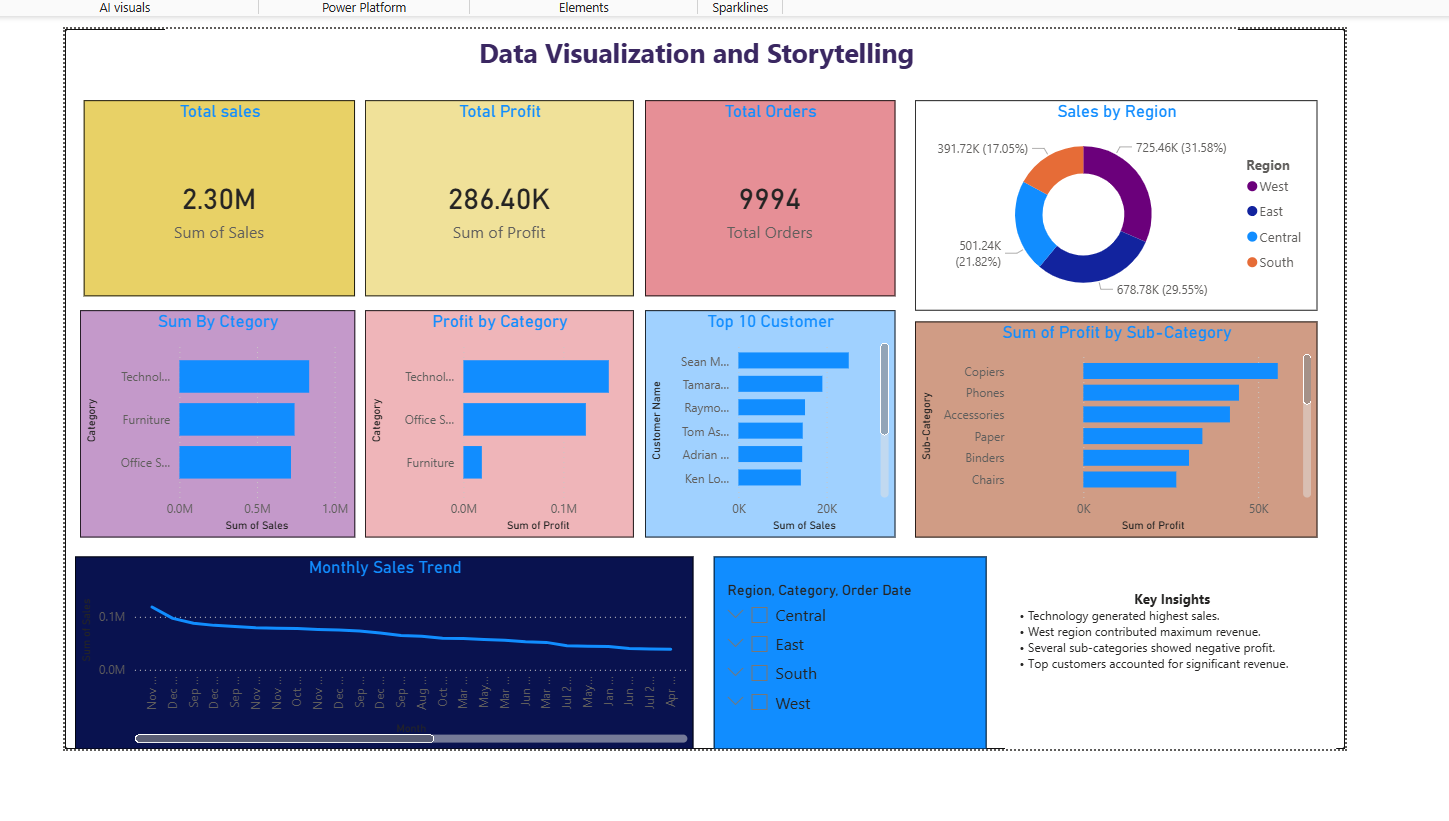

Layout of this report page (visuals, bound fields, positions):
{"tool":"powerbi","page":{"name":"Page 1","canvas":[1280,720],"ordinal":0},"visuals":[{"type":"card","title":"Total sales","fields":{"Values":["Sum(Sample - Superstore.Sales)"]},"box":[18.8,71.2,271.2,196.2],"z":0},{"type":"card","title":"Total Profit","fields":{"Values":["Sum(Sample - Superstore.Profit)"]},"box":[300,71.2,268.8,196.2],"z":1},{"type":"card","title":"Total Orders","fields":{"Values":["Sample - Superstore.Total Orders"]},"box":[580,71.2,250,196.2],"z":2},{"type":"clusteredBarChart","title":"Sum By Ctegory","fields":{"Category":["Sample - Superstore.Category"],"Y":["Sum(Sample - Superstore.Sales)"]},"box":[15,281.2,275,227.5],"z":3},{"type":"clusteredBarChart","title":"Profit by Category","fields":{"Category":["Sample - Superstore.Category"],"Y":["Sum(Sample - Superstore.Profit)"]},"box":[300,281.2,268.8,227.5],"z":4},{"type":"lineChart","title":" Monthly Sales Trend","fields":{"Category":["Sample - Superstore.Month"],"Y":["Sum(Sample - Superstore.Sales)"]},"box":[10,527.5,618.8,192.5],"z":5},{"type":"donutChart","title":"Sales by Region","fields":{"Category":["Sample - Superstore.Region"],"Y":["Sum(Sample - Superstore.Sales)"]},"box":[850,71.2,402.5,210],"z":6},{"type":"barChart","title":"Top 10  Customer ","fields":{"Category":["Sample - Superstore.Customer Name"],"Y":["Sum(Sample - Superstore.Sales)"]},"box":[580,281.2,250,227.5],"z":7},{"type":"barChart","fields":{"Category":["Sample - Superstore.Sub-Category"],"Y":["Sum(Sample - Superstore.Profit)"]},"box":[850,292.5,402.5,216.2],"z":8},{"type":"slicer","title":"Slicer","fields":{"Values":["Sample - Superstore.Region","Sample - Superstore.Category","Sample - Superstore.Order Date"]},"box":[648.8,527.5,272.5,192.5],"z":9},{"type":"textbox","box":[940,556.2,331.2,163.8],"z":10},{"type":"textbox","box":[100,0,1072.5,62.5],"z":11}]}

Visuals, with their boxes on the page's 1280x720 design canvas (x1, y1, x2, y2). These are canvas units, not pixel positions in the 1449x821 screenshot, which may show the page scaled, cropped or inside an application window:
"Total sales" card: box=[19, 71, 290, 267]
"Total Profit" card: box=[300, 71, 569, 267]
"Total Orders" card: box=[580, 71, 830, 267]
"Sum By Ctegory" clusteredBarChart: box=[15, 281, 290, 509]
"Profit by Category" clusteredBarChart: box=[300, 281, 569, 509]
" Monthly Sales Trend" lineChart: box=[10, 528, 629, 720]
"Sales by Region" donutChart: box=[850, 71, 1252, 281]
"Top 10  Customer " barChart: box=[580, 281, 830, 509]
barChart - Sample - Superstore.Sub-Category x Sum(Sample - Superstore.Profit): box=[850, 292, 1252, 509]
"Slicer" slicer: box=[649, 528, 921, 720]
textbox: box=[940, 556, 1271, 720]
textbox: box=[100, 0, 1172, 62]
